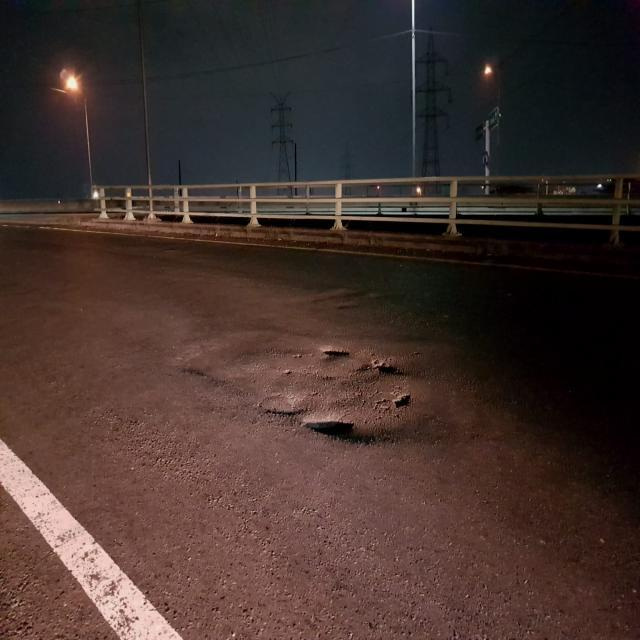Buraco: (299, 418, 379, 447), (306, 286, 368, 306), (368, 357, 408, 378), (364, 288, 412, 304), (262, 407, 308, 419), (317, 344, 354, 358), (391, 392, 415, 411), (334, 299, 362, 312)
